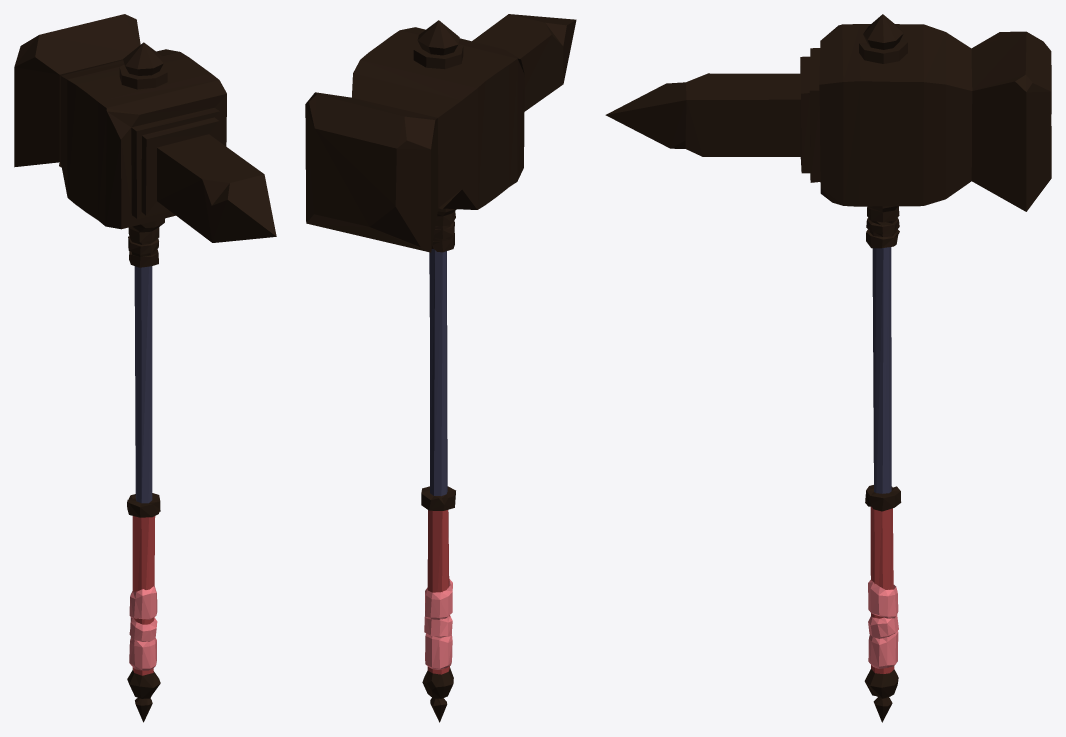
Rendered from SFFA_Weapon_Hammer_Iron_001.fbx.
The picture shows the model from 3 angles, left to right: view 1: azimuth 30°, elevation 25°; view 2: azimuth 150°, elevation 25°; view 3: azimuth 270°, elevation 25°; orthographic projection. The views are drawn at different scales.
Visible parts, largest first — view 1: SFFA_Weapon_Hammer_Iron_001; view 2: SFFA_Weapon_Hammer_Iron_001; view 3: SFFA_Weapon_Hammer_Iron_001.
Boxes of the visible parts, left/top/right/bottom form: SFFA_Weapon_Hammer_Iron_001: left=14, top=14, right=276, bottom=722; SFFA_Weapon_Hammer_Iron_001: left=305, top=14, right=576, bottom=722; SFFA_Weapon_Hammer_Iron_001: left=605, top=14, right=1051, bottom=722.
Size of the model in its own units: 16.84 by 90.25 by 51.47.
